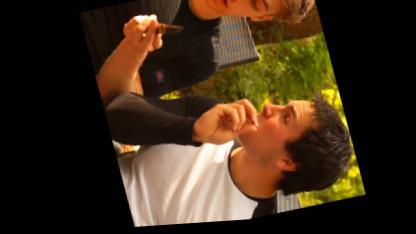knife: (124, 4, 190, 54)
